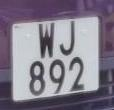2: (65, 55, 90, 96)
8: (26, 57, 48, 99)
9: (46, 57, 70, 98)
J: (57, 17, 79, 59)
W: (34, 20, 59, 60)
